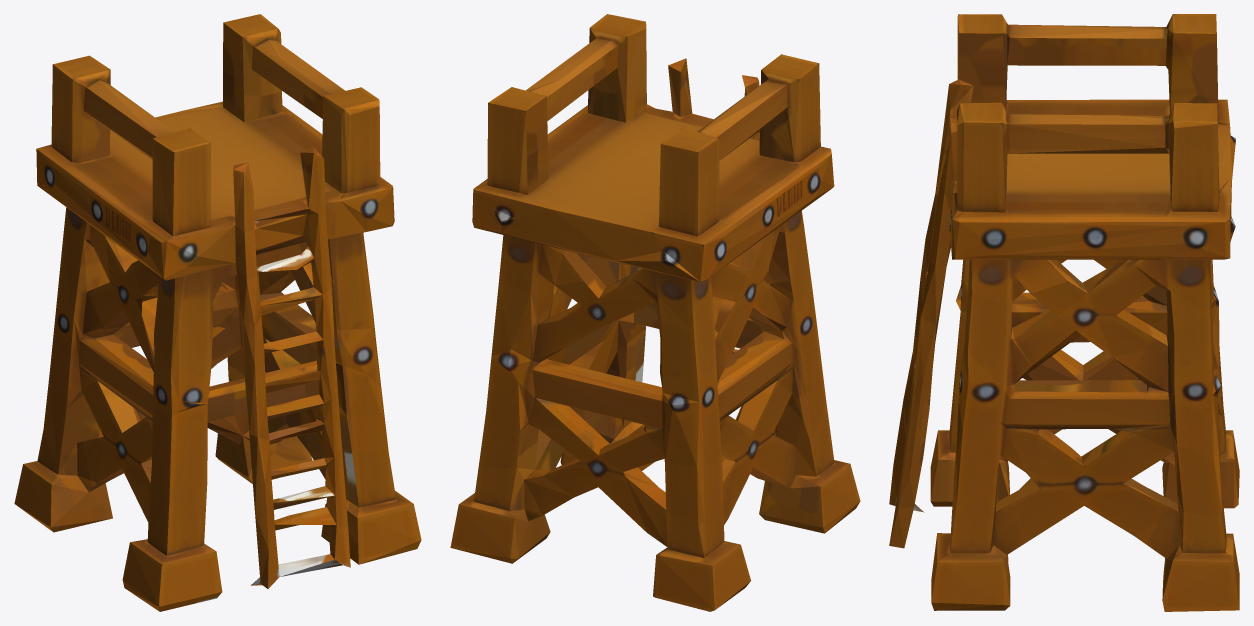
The model's file is lvl_1_archer_tower.glb.
3 renders of one model, left to right at view 1: azimuth 30°, elevation 25°; view 2: azimuth 150°, elevation 25°; view 3: azimuth 270°, elevation 25°, orthographic. The views are drawn at different scales.
Parts seen in each view (by area): view 1: tmp20ohlfjy.ply; view 2: tmp20ohlfjy.ply; view 3: tmp20ohlfjy.ply.
Boxes of the visible parts, bbox=[...] form: tmp20ohlfjy.ply: bbox=[14, 14, 421, 611]; tmp20ohlfjy.ply: bbox=[450, 14, 860, 611]; tmp20ohlfjy.ply: bbox=[889, 14, 1239, 611].
Bounding box in the file's own units: 1.21 × 1.95 × 1.3.
1 material, 1 textured.
